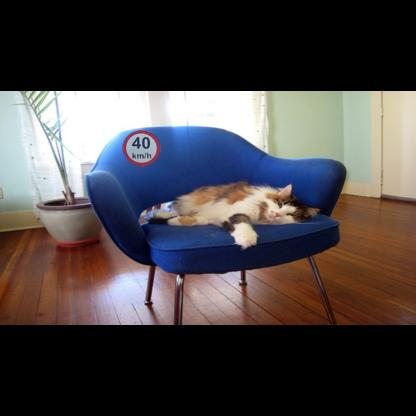R-19: (122, 130, 160, 166)
